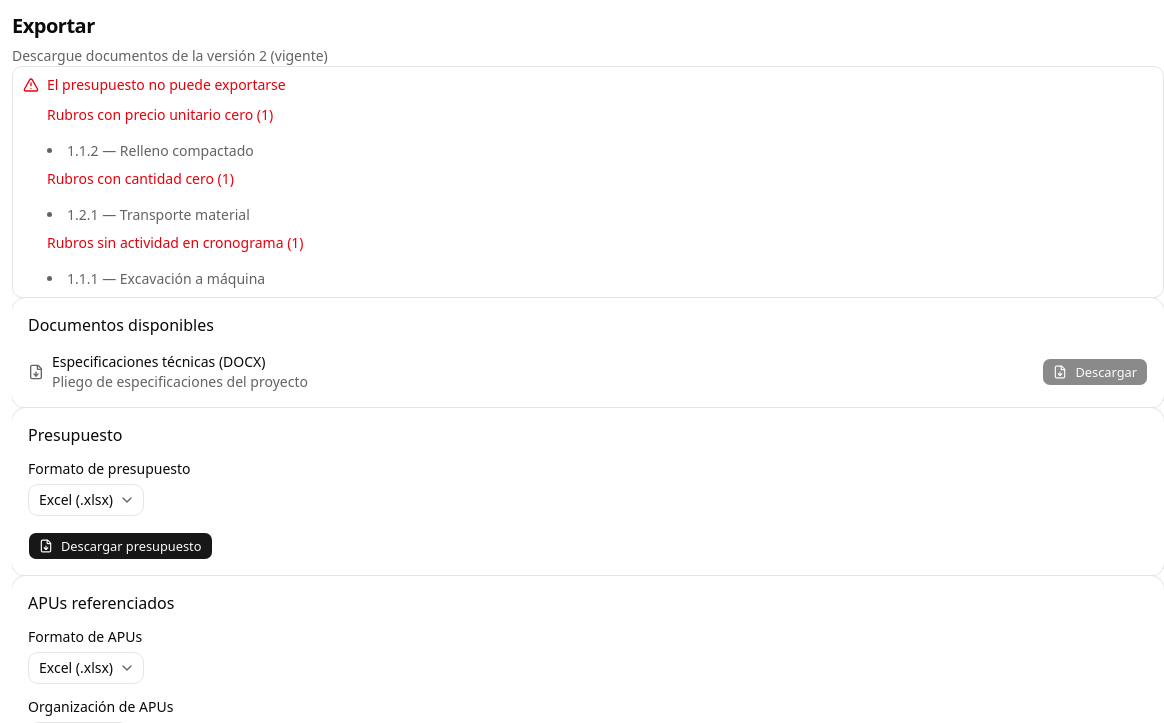
Test: ExportPage — presupuesto/APUs › un 409 tardío invalida solo la key capturada y no bloquea el formato nuevo
Expected: the heading "Exportar" is shown, [12,12,95,40]
Step 1. Click the button "Descargar presupuesto" → click(120, 546), box [28,532,212,560]
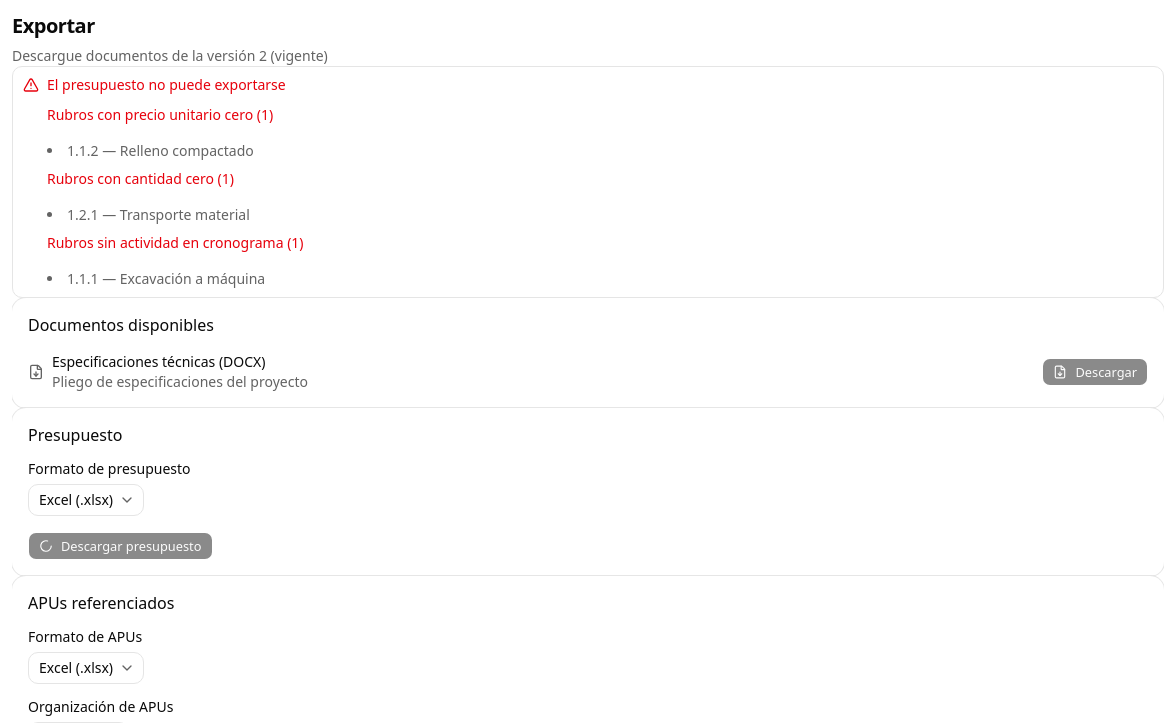
Step 2. Click the dropdown named "Formato de presupuesto" → click(86, 500), box [28,484,144,516]
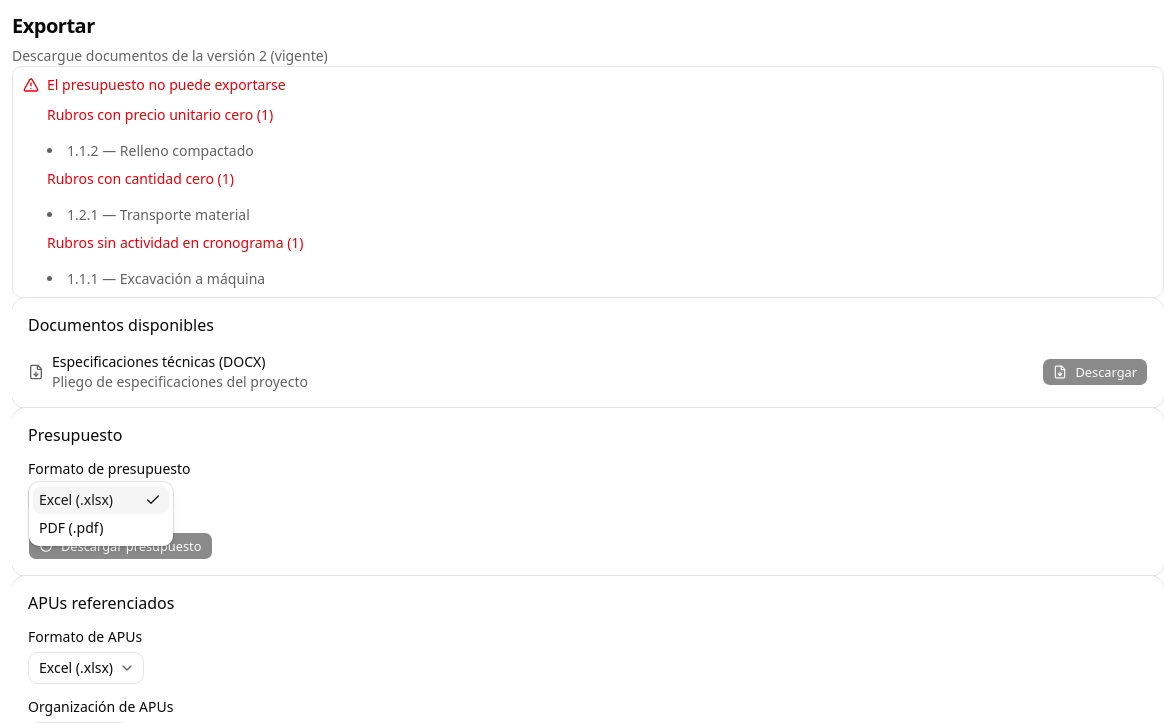
Step 3. Click the option "PDF (.pdf)" → click(71, 528), box [39,518,103,537]
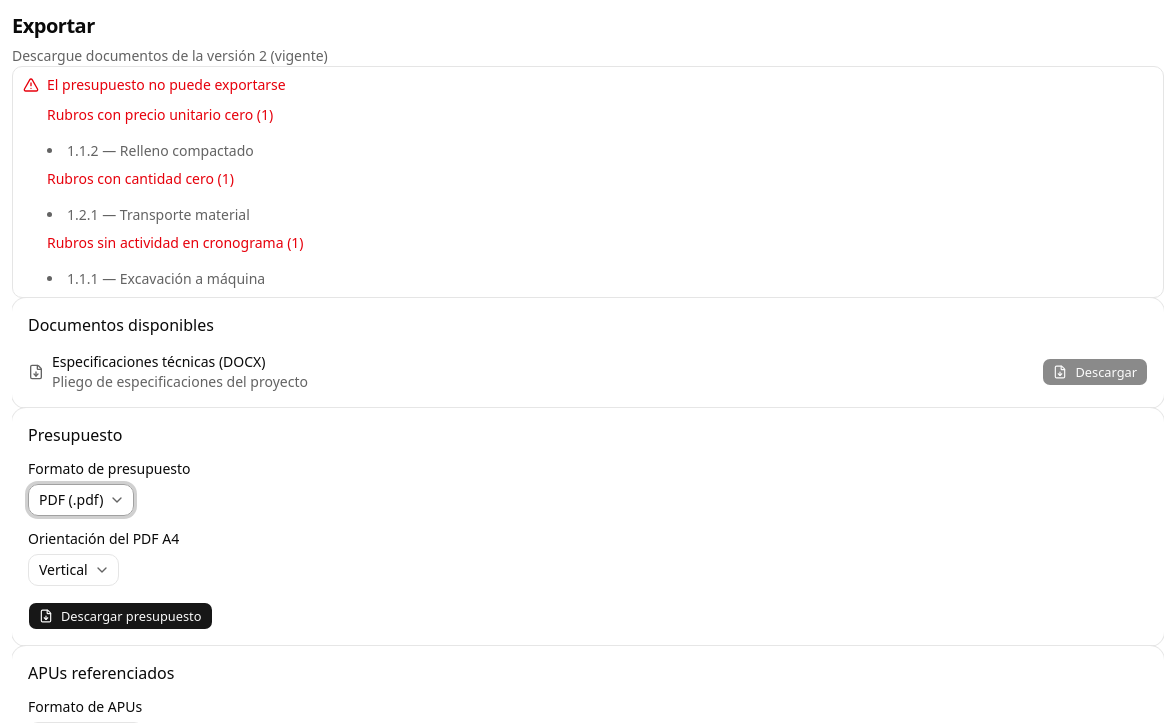
Result: the button "Descargar presupuesto" is enabled at [28,602,212,630]
